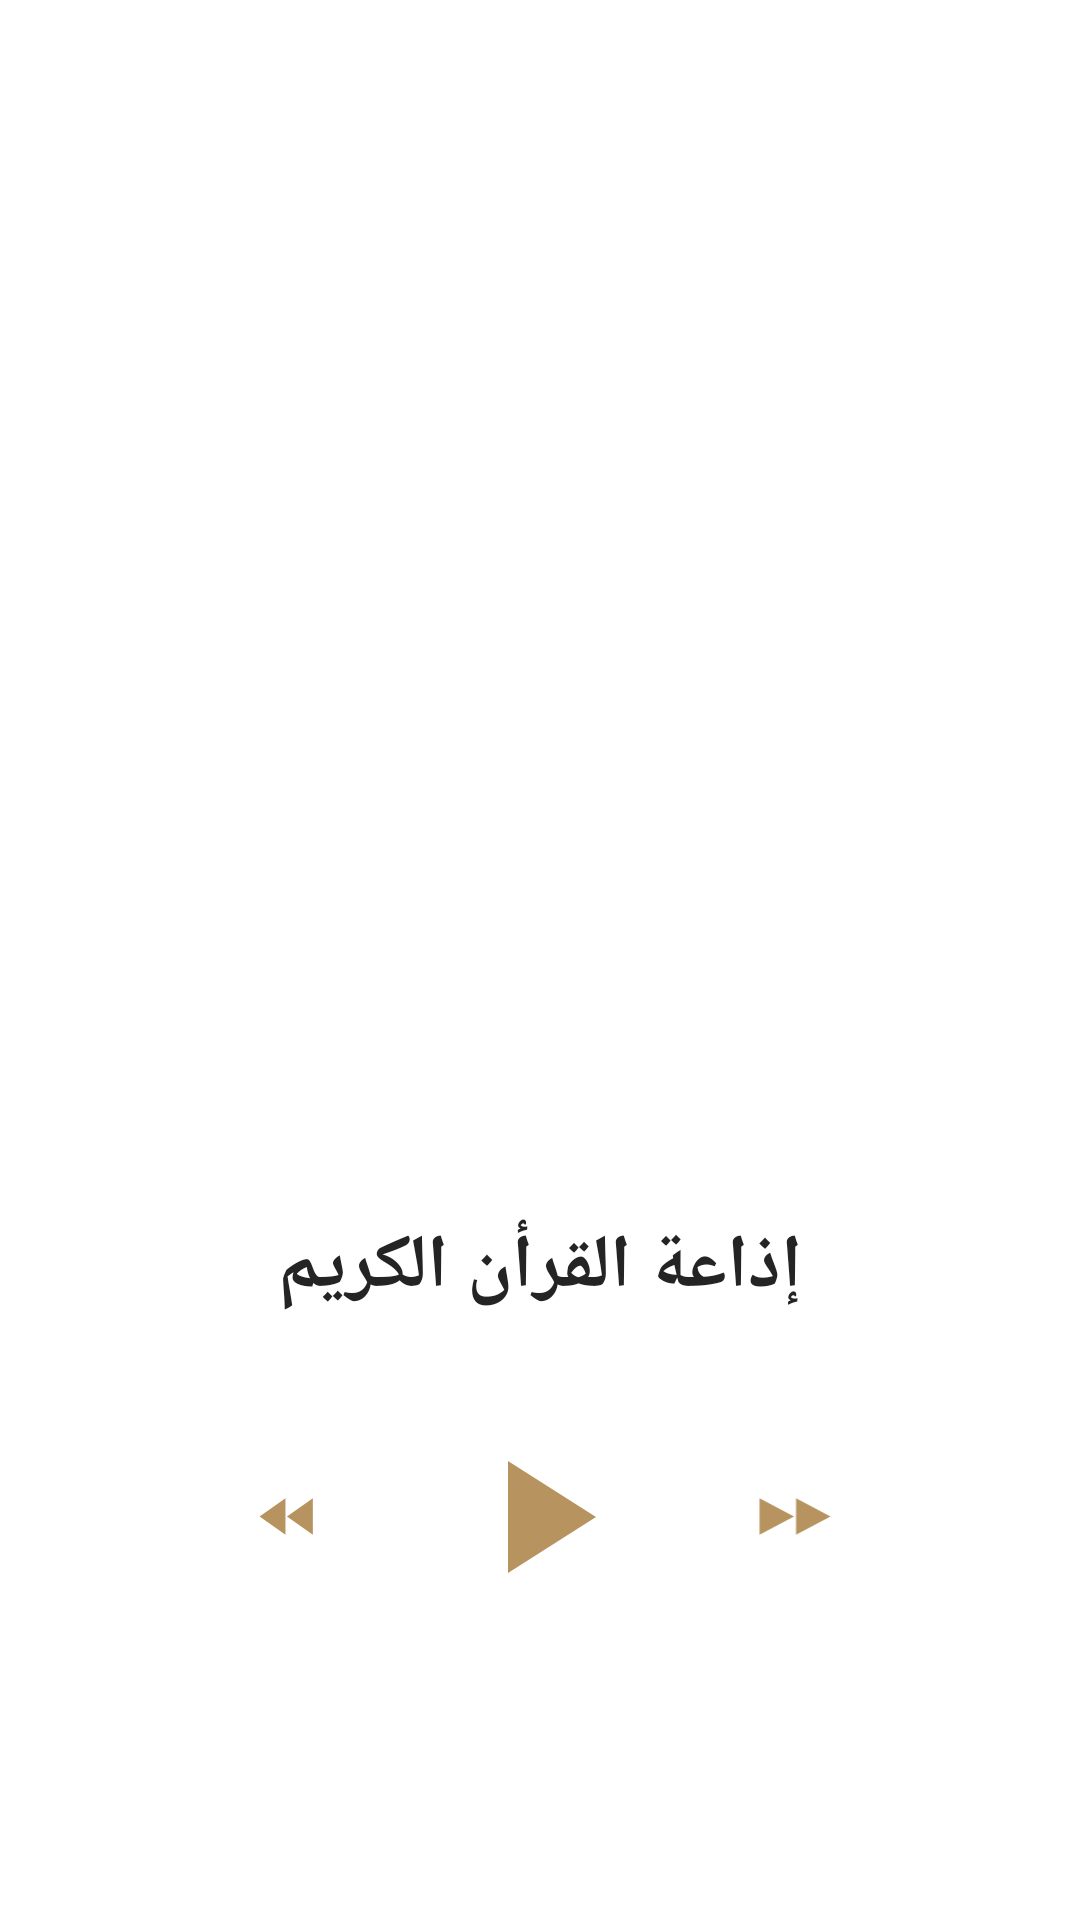

Locate icon controls on the screen. Image size 1080×1920, boxes as bbox=[x1, y1, x2, y2].
left click: bbox=[260, 1498, 313, 1535]
right click: bbox=[759, 1498, 831, 1535]
start: bbox=[508, 1461, 596, 1573]
